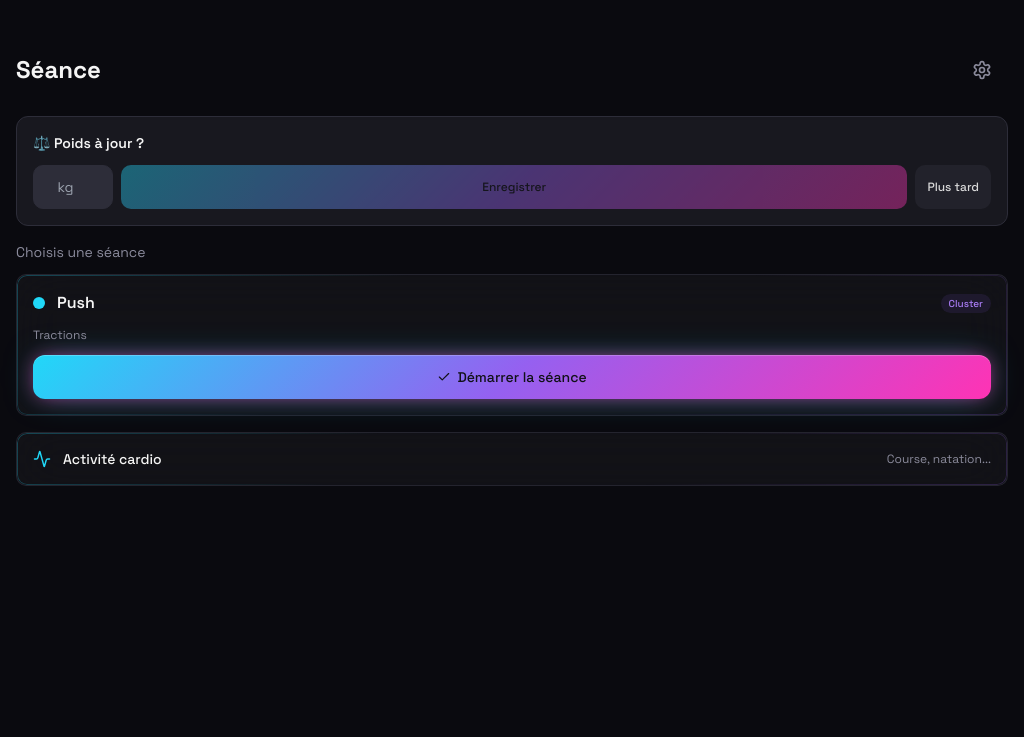
Scenario: WorkoutTab — changement de méthode en cours de séance (override, jamais persisté) › repasser un exercice Cluster en Normal régénère ses séries sans toucher la config par défaut de l'exercice
Step 1. Click the button "Démarrer la séance" → (512, 377), box [33, 355, 991, 399]
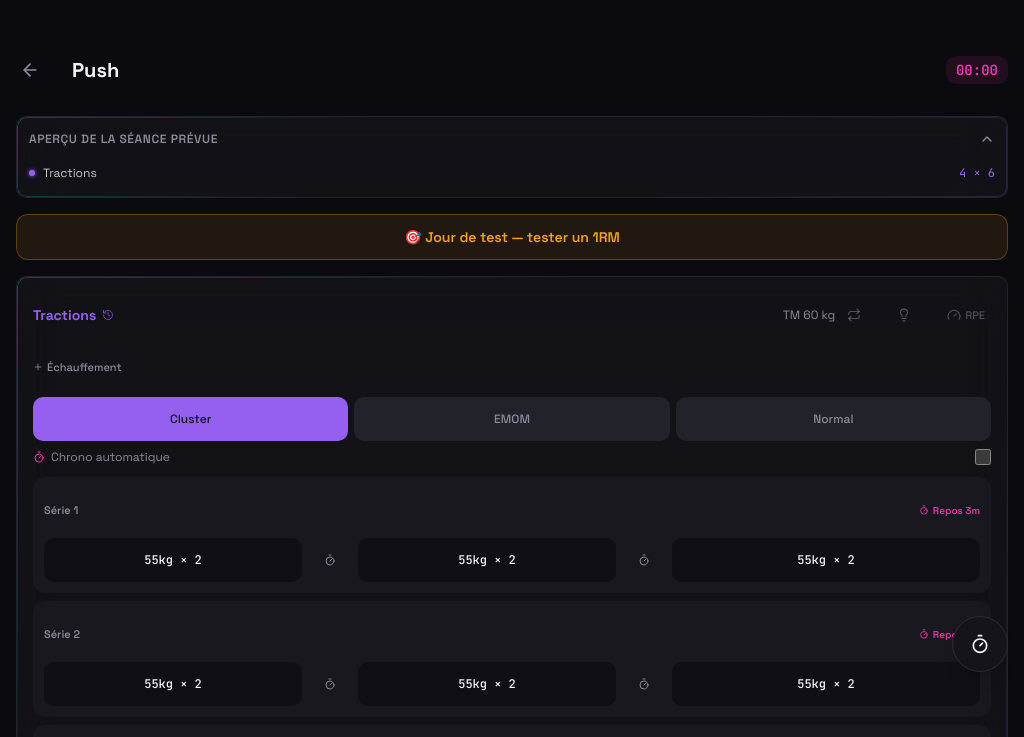
Step 2. Click the button "Normal" → (833, 419), box [676, 397, 991, 441]
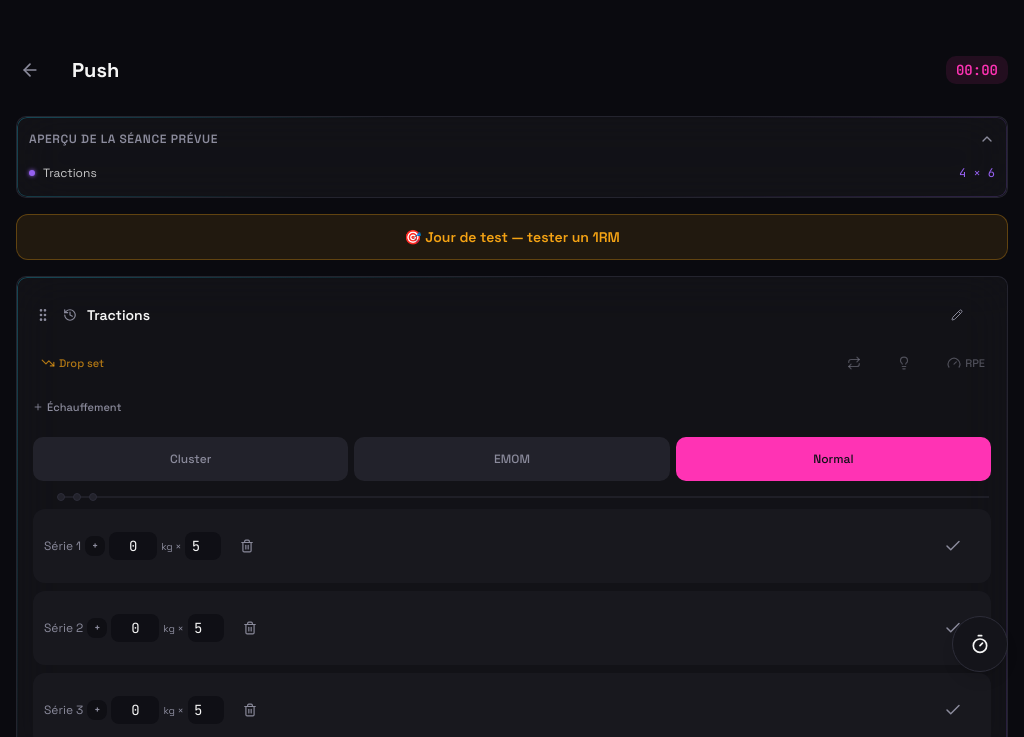
Check: the button named "Valider Série 1" is shown, box [936, 524, 980, 568]
Check: the button named "Valider Série 2" is shown, box [936, 606, 980, 650]
Check: the button named "Valider Série 3" is shown, box [936, 688, 980, 732]
